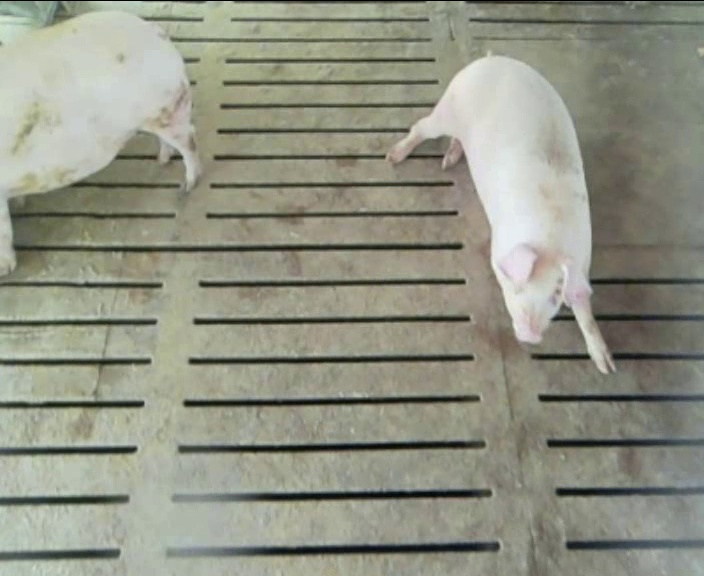pig: (387, 56, 614, 373), (0, 12, 201, 275)
